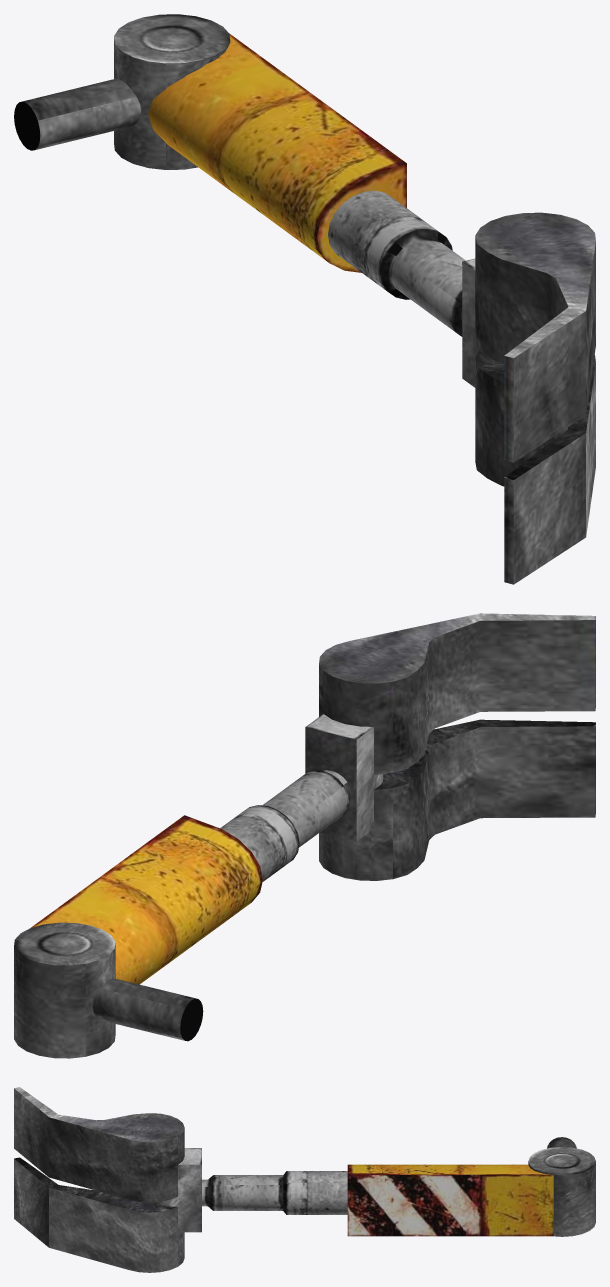
File: leftarm_080401.dae
3 views of the same model, one above another, from view 1: azimuth 30°, elevation 25°; view 2: azimuth 150°, elevation 25°; view 3: azimuth 270°, elevation 25° (orthographic). The views are drawn at different scales.
Visible parts, largest first — view 1: leftArm03, leftArm06, leftArm07, leftArm04, leftArm02, leftArm01, leftArm05; view 2: leftArm06, leftArm07, leftArm03, leftArm02, leftArm04, leftArm05, leftArm01; view 3: leftArm03, leftArm06, leftArm07, leftArm04, leftArm02, leftArm05.
Part boxes in pixels (x1,y1,x2,y2): leftArm03: (148,33,406,272); leftArm06: (475,212,595,462); leftArm07: (475,350,595,584); leftArm04: (328,190,465,336); leftArm02: (114,14,230,169); leftArm01: (14,78,141,150); leftArm05: (462,258,479,387); leftArm06: (319,613,595,774); leftArm07: (319,719,595,880); leftArm03: (31,815,262,984); leftArm02: (14,922,115,1058); leftArm04: (220,770,350,881); leftArm05: (305,714,383,841); leftArm01: (92,978,203,1041); leftArm03: (347,1164,553,1236); leftArm06: (14,1087,184,1202); leftArm07: (14,1157,184,1272); leftArm04: (202,1171,347,1214); leftArm02: (528,1147,595,1236); leftArm05: (155,1148,201,1232).
Size of the model in its own units: 0.82 by 0.871 by 3.52.
1 material, 1 textured.
